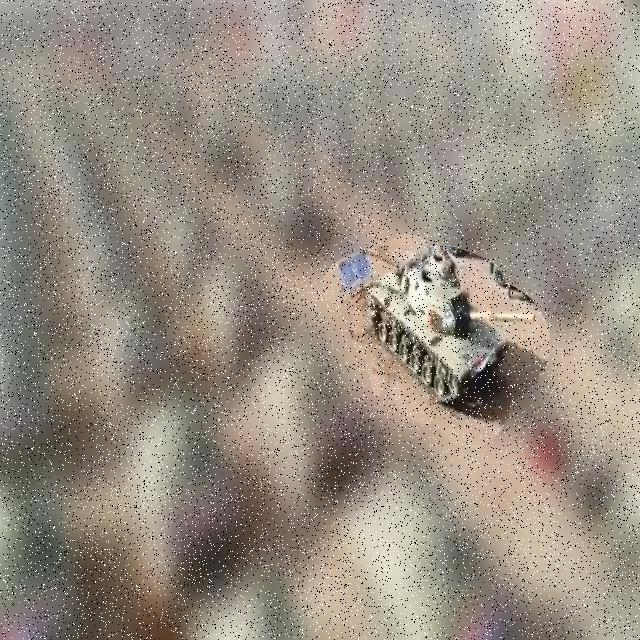MIL_MBT: (367, 249, 537, 413)
